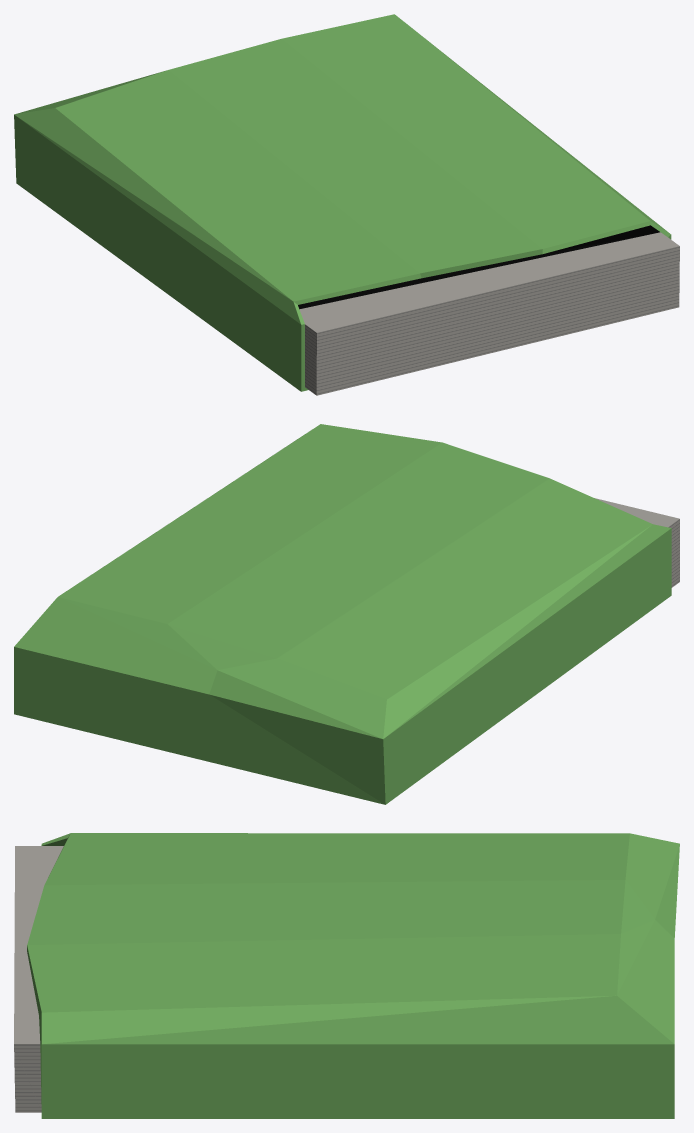
The model's file is Int_OfficePaper02.fbx.
The picture shows the model from 3 angles, top to bottom: view 1: azimuth 30°, elevation 25°; view 2: azimuth 150°, elevation 25°; view 3: azimuth 270°, elevation 25°; orthographic projection. The views are drawn at different scales.
Parts seen in each view (by area): view 1: Int_OfficePaper01; view 2: Int_OfficePaper01; view 3: Int_OfficePaper01.
Boxes of the visible parts, <box> form: Int_OfficePaper01: <box>14,14,679,395</box>; Int_OfficePaper01: <box>14,424,679,804</box>; Int_OfficePaper01: <box>14,833,679,1118</box>.
Size of what is drawn, in the model's own units: 30 by 42.09 by 8.02.
